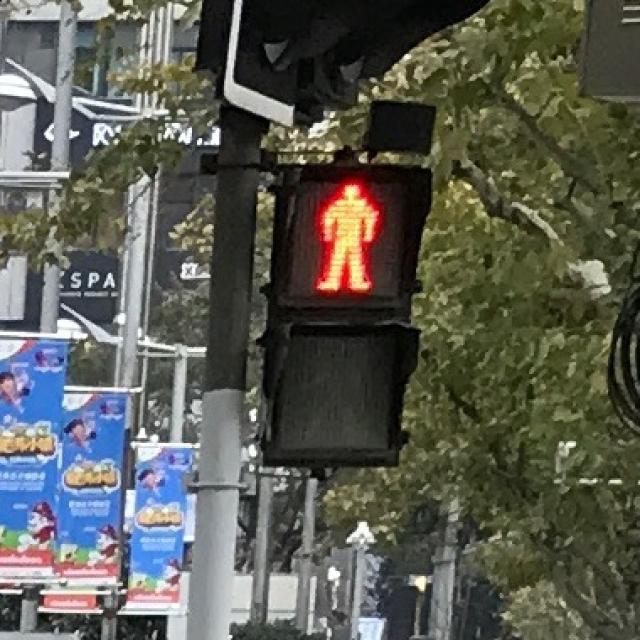red-crossing: (304, 170, 388, 298)
